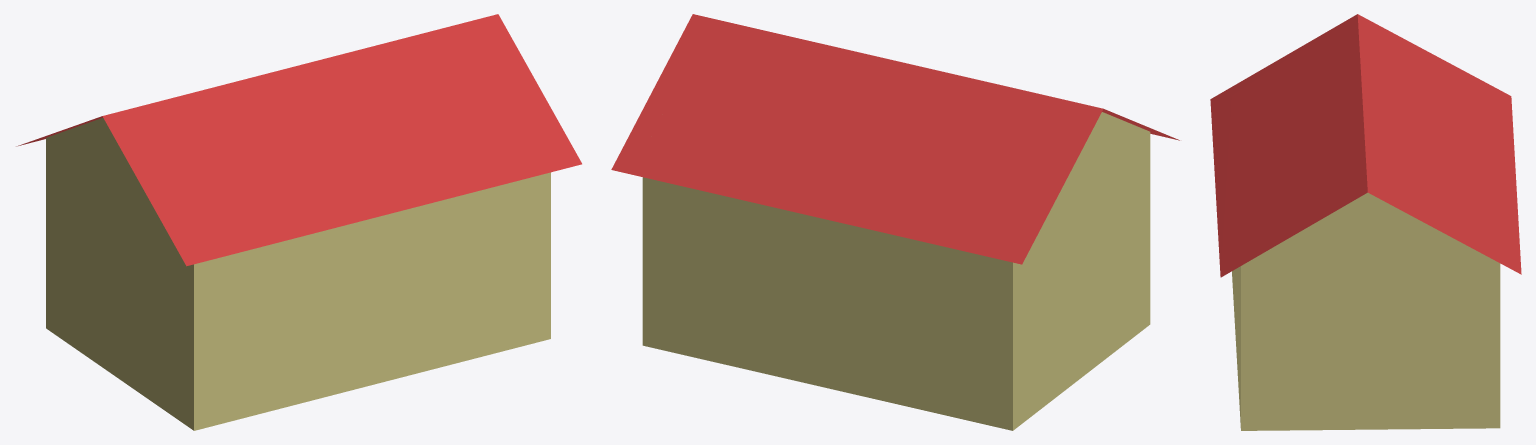
The picture shows the model from 3 angles, left to right: view 1: azimuth 30°, elevation 25°; view 2: azimuth 150°, elevation 25°; view 3: azimuth 270°, elevation 25°; orthographic projection. The views are drawn at different scales.
Bounding box in the file's own units: 15.43 × 11.17 × 9.74.
